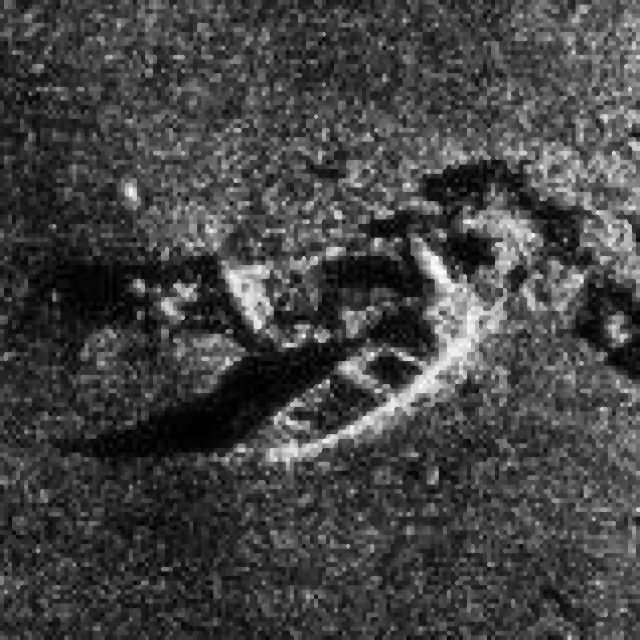Ship: (223, 254, 503, 475)
